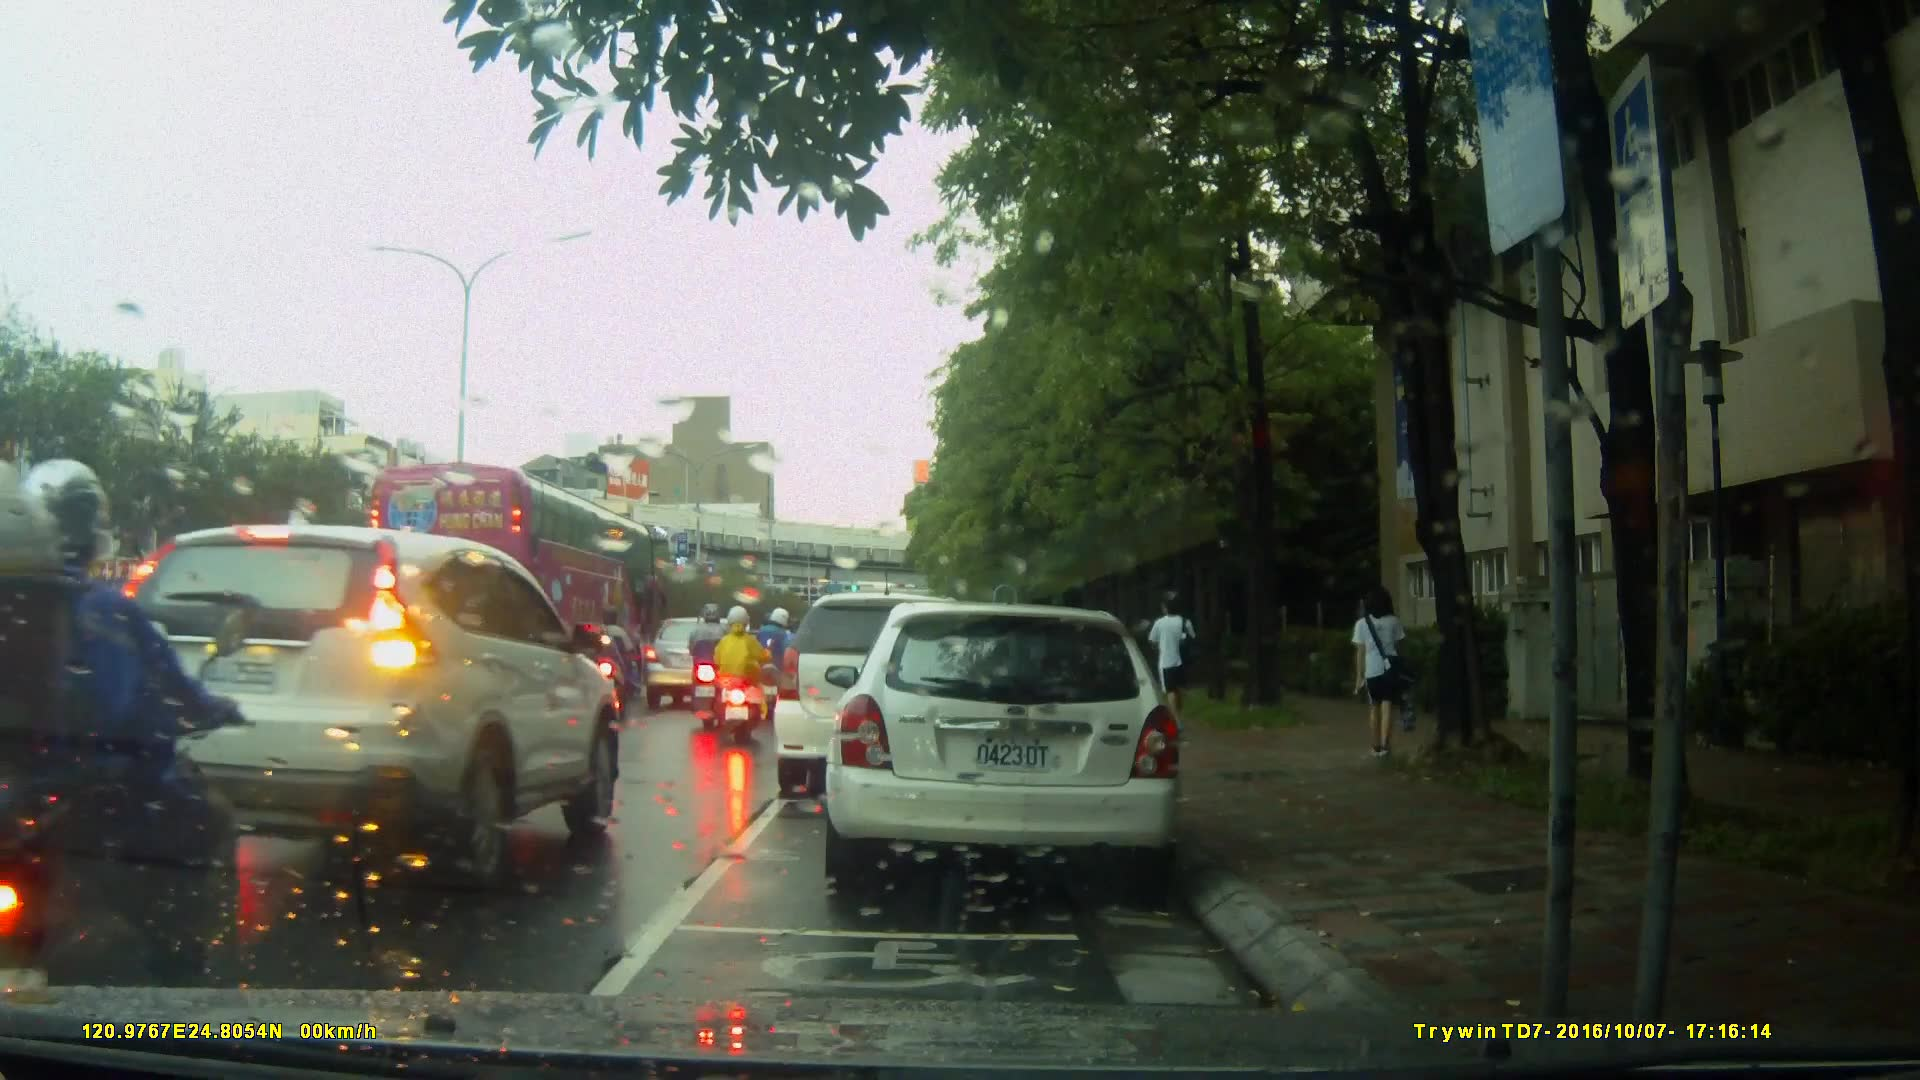pedestrian: (1336, 582, 1420, 778), (1148, 589, 1198, 727)
rider: (1, 447, 254, 1058), (709, 604, 763, 747), (580, 605, 647, 709), (682, 597, 735, 725), (754, 605, 801, 713)
vehicle: (86, 519, 620, 911), (835, 594, 1194, 898), (355, 463, 668, 687), (776, 590, 1026, 784), (646, 616, 759, 705)
